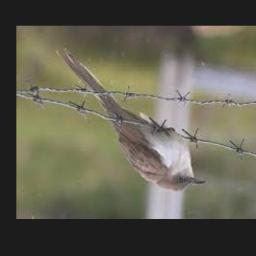Cuckoo: (55, 50, 206, 192)
